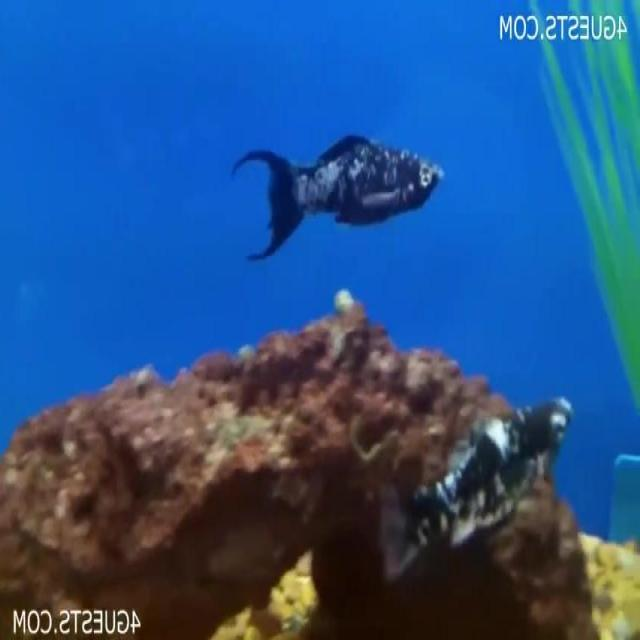PlatyFish: (229, 117, 462, 270)
